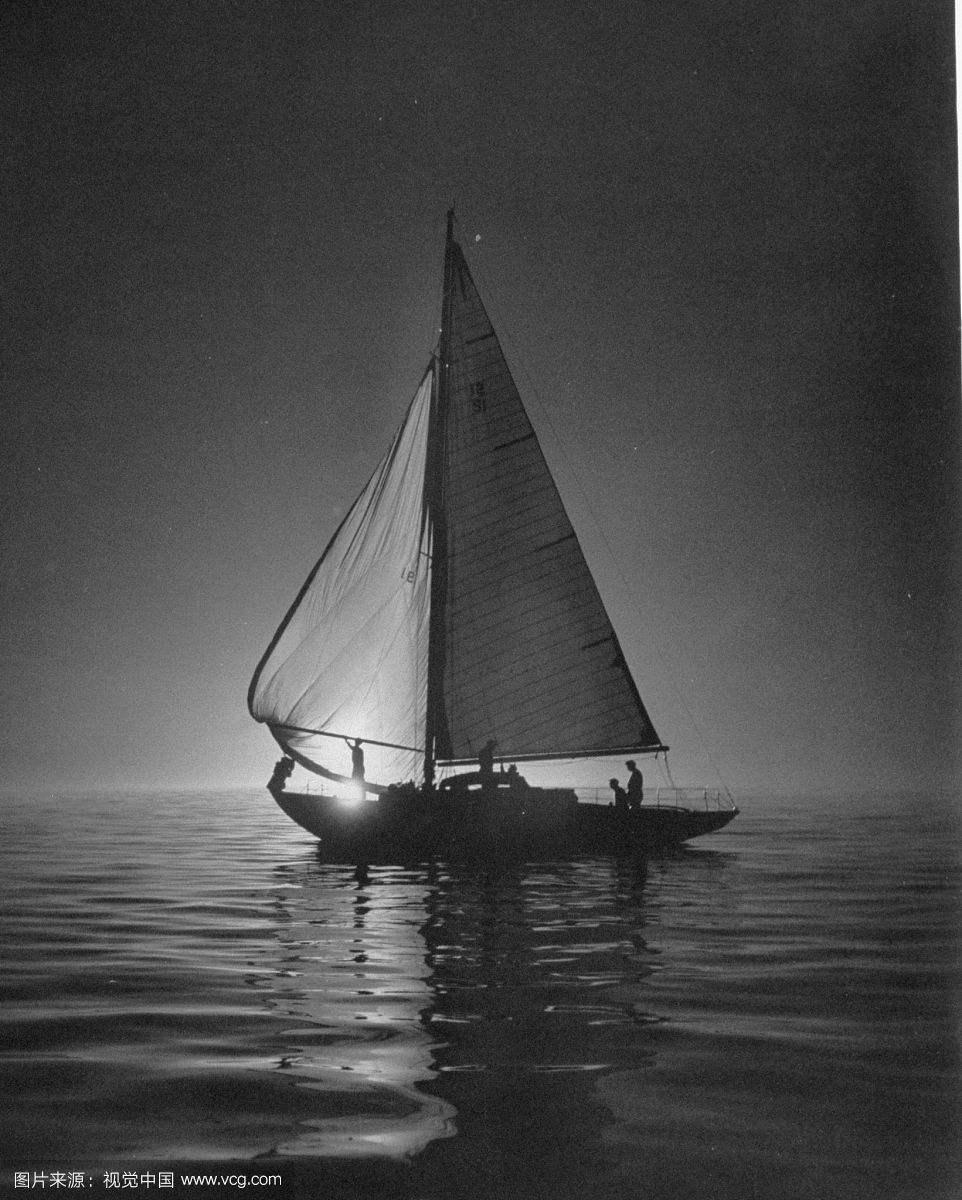fanchuan: (236, 210, 746, 863)
